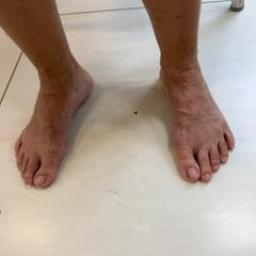Front View -Both Feet-: (4, 24, 246, 202)
